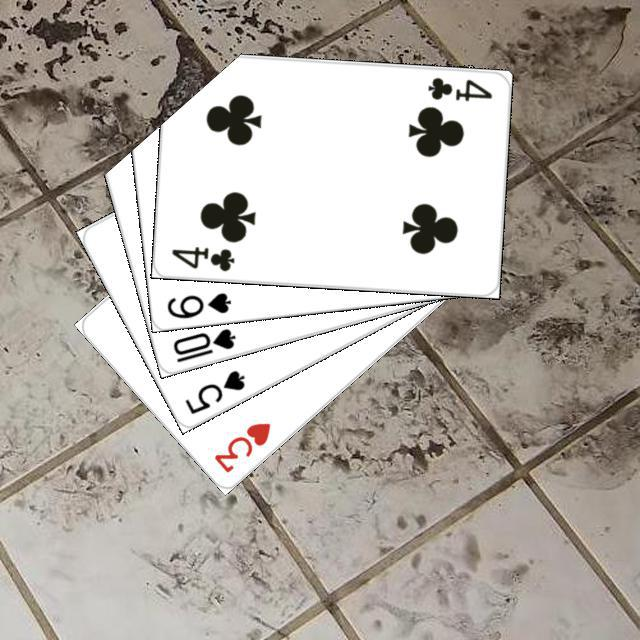10s: (168, 323, 237, 365)
3h: (208, 417, 272, 475)
4c: (167, 242, 237, 274), (423, 72, 494, 103)
5s: (179, 365, 247, 416)
6s: (162, 287, 233, 320)
